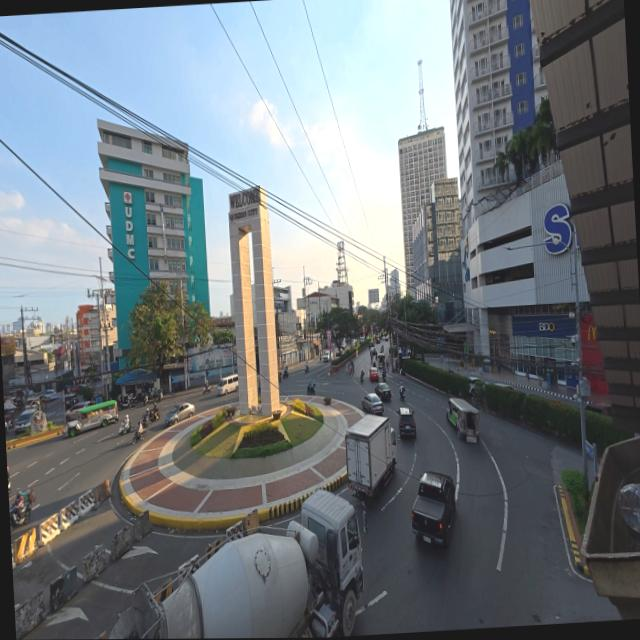Jeepneys: (63, 401, 118, 436), (447, 399, 479, 443), (378, 353, 386, 368)
car: (165, 403, 195, 425), (398, 408, 415, 438), (66, 401, 90, 422), (362, 393, 384, 413), (15, 409, 33, 433), (586, 403, 612, 417), (375, 383, 391, 401), (468, 376, 484, 393), (65, 394, 78, 411), (25, 398, 40, 410), (42, 389, 56, 401), (495, 383, 516, 391), (370, 367, 379, 382), (50, 393, 63, 402), (323, 351, 332, 363), (5, 421, 9, 434), (351, 339, 358, 346), (382, 335, 388, 342), (359, 336, 365, 342), (376, 337, 380, 344)
motorcycle: (9, 490, 35, 533), (132, 391, 149, 404), (132, 426, 144, 444), (119, 418, 131, 436), (119, 396, 132, 409), (151, 389, 163, 402), (150, 408, 161, 422), (141, 413, 151, 428), (307, 384, 316, 395), (7, 466, 10, 494), (203, 385, 211, 395), (283, 369, 288, 378), (360, 371, 364, 382), (400, 391, 404, 401), (382, 372, 386, 382), (305, 364, 309, 373), (279, 372, 282, 382)
trucks: (109, 491, 363, 638), (346, 414, 396, 495), (411, 471, 455, 546)
vans: (217, 374, 239, 394)
